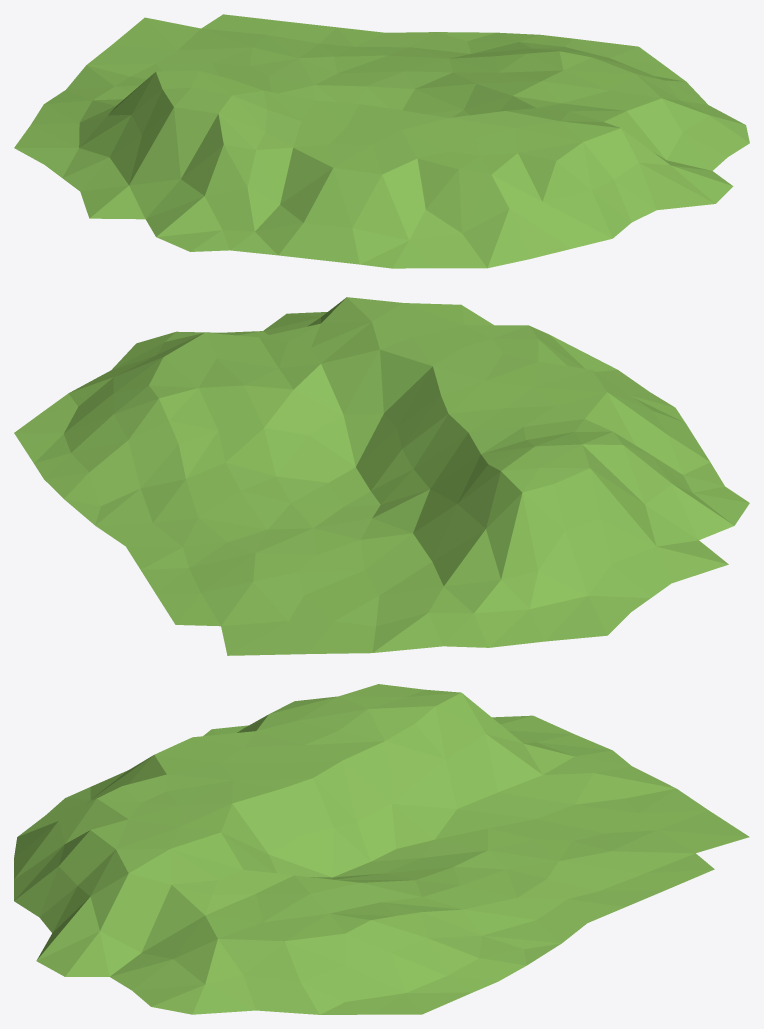
The model's file is MT_Mountain_M_c_19.fbx.
3 renders of one model, top to bottom at view 1: azimuth 30°, elevation 25°; view 2: azimuth 150°, elevation 25°; view 3: azimuth 270°, elevation 25°, orthographic. The views are drawn at different scales.
Parts seen in each view (by area): view 1: MT_Mountain_M_c_19; view 2: MT_Mountain_M_c_19; view 3: MT_Mountain_M_c_19.
Part boxes in pixels (x1,y1,x2,y2): MT_Mountain_M_c_19: [14, 14, 749, 268]; MT_Mountain_M_c_19: [14, 297, 749, 655]; MT_Mountain_M_c_19: [14, 684, 749, 1014].
Bounding box in the file's own units: 4453 × 559 × 4512.
